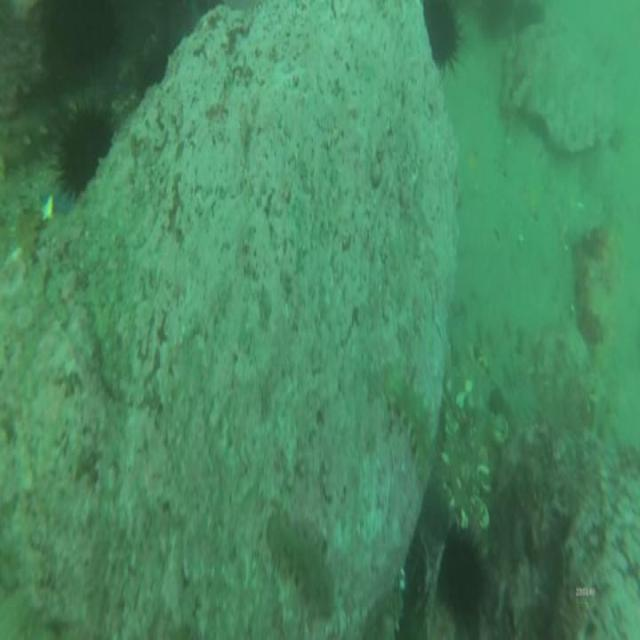echinus: (59, 114, 109, 193), (441, 532, 485, 616), (424, 2, 459, 63)
holothurian: (267, 515, 333, 615), (386, 366, 436, 484)
